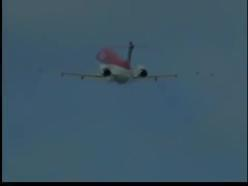aircraft: (63, 40, 177, 88)
